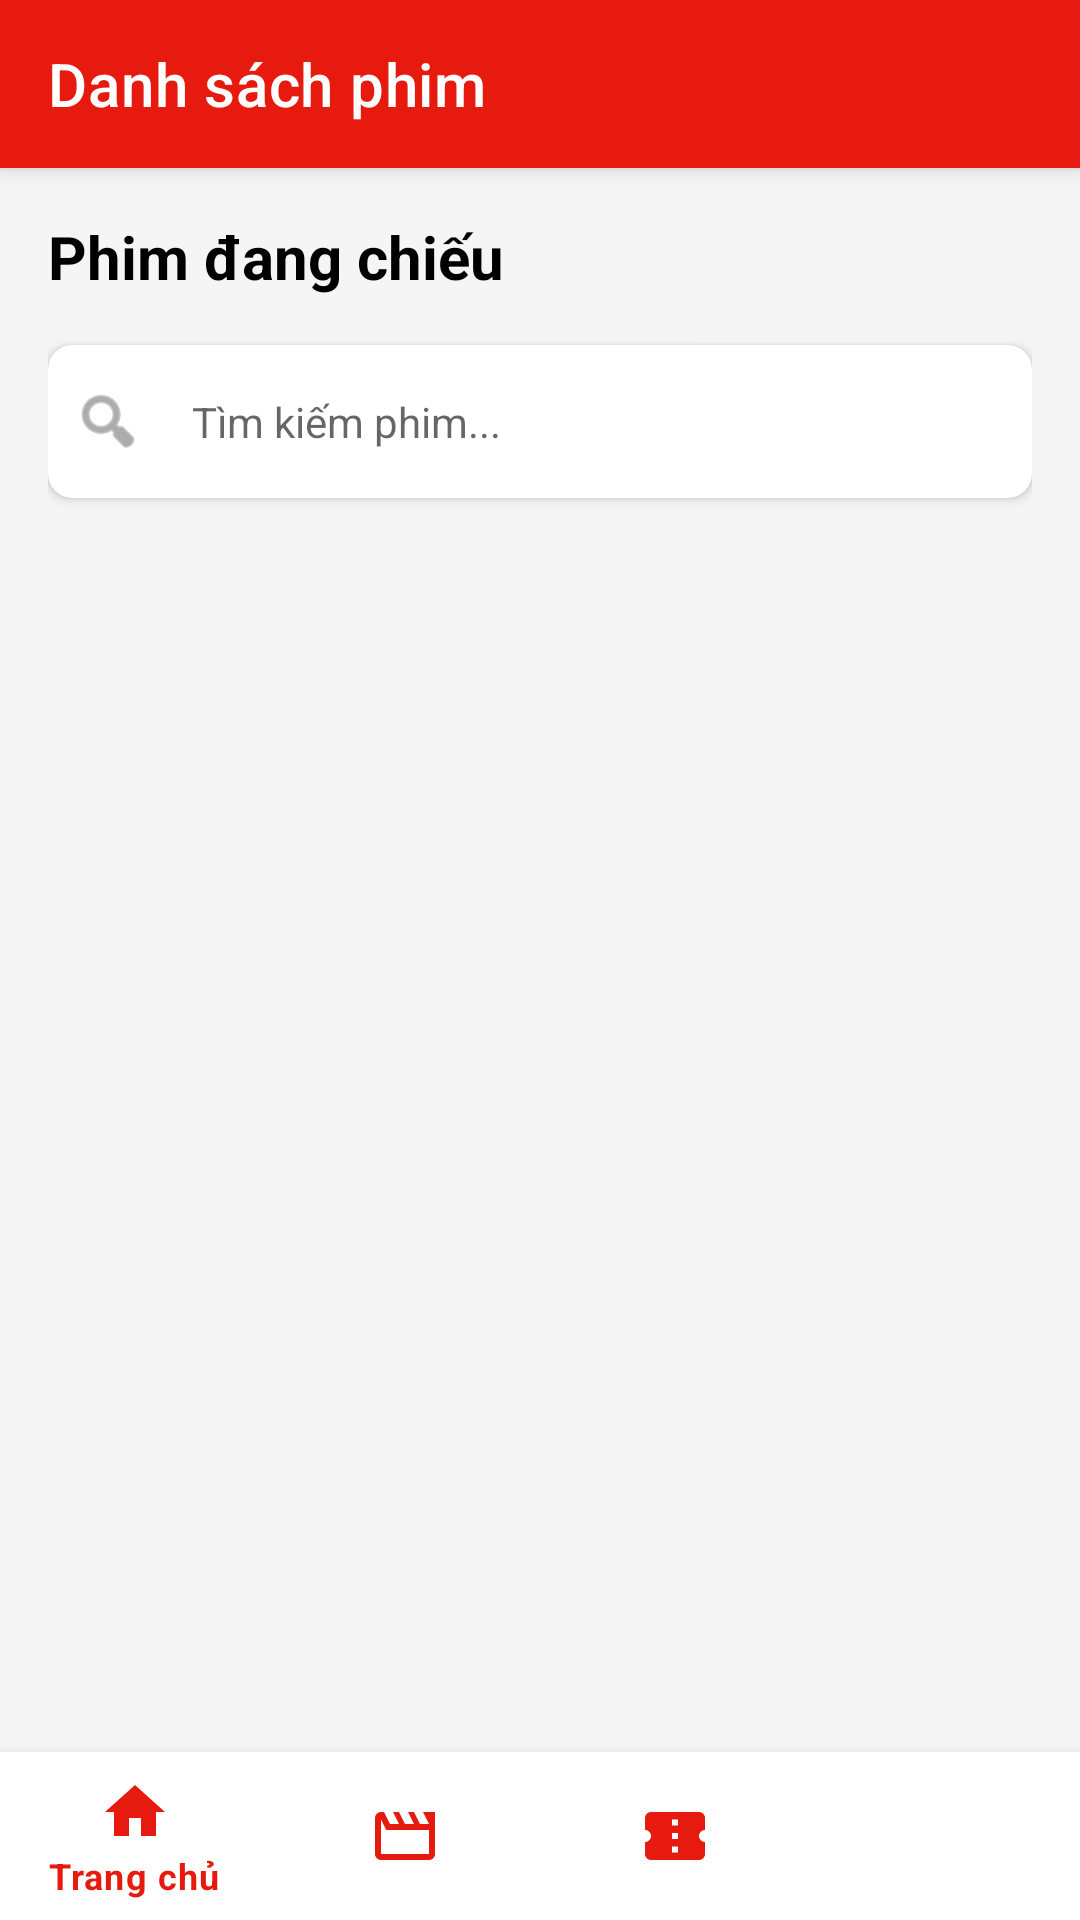

Locate icon controls on the screen. Image size 1080px×1920px, boxes as Rect(x1, y1, x2, y2).
search: Rect(82, 395, 134, 448)
